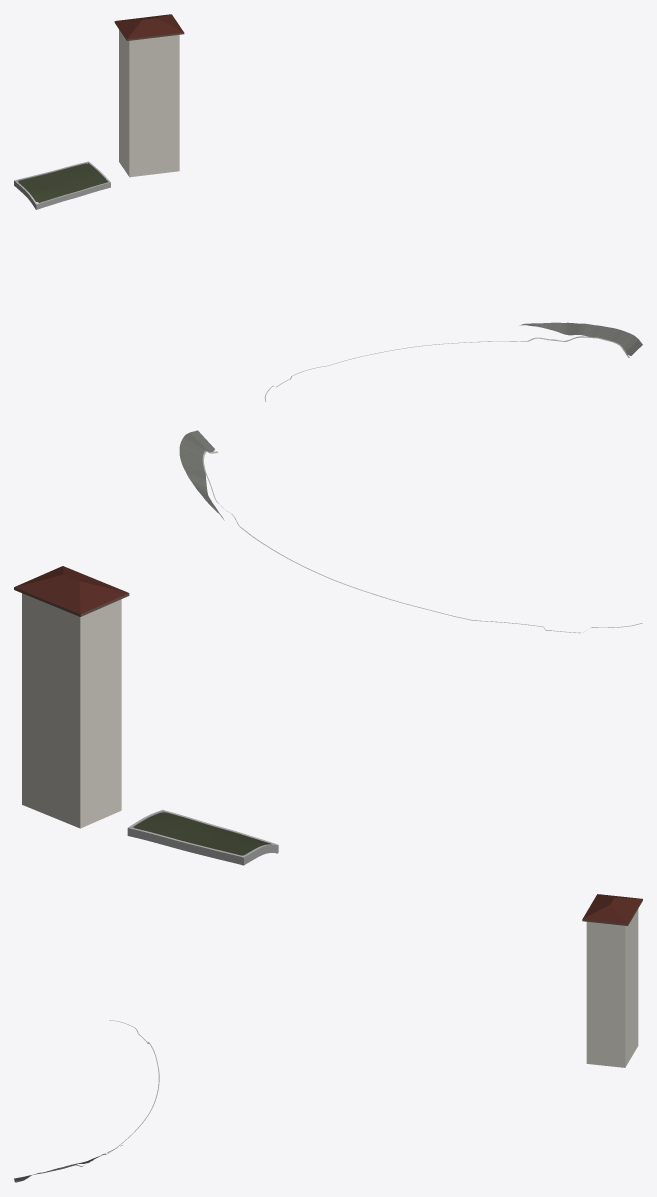
3 views of the same model, one above another, from view 1: azimuth 30°, elevation 25°; view 2: azimuth 150°, elevation 25°; view 3: azimuth 270°, elevation 25° (orthographic). The views are drawn at different scales.
Parts seen in each view (by area): view 1: Red Hawk W core (stair tower, red-tile hip roof (ortho); LiD, ge_police_terrace_bed, SF north cap edge curb (ortho; APPROX 0.15 m), SF north cap asphalt walk (ortho ring ~2.5 m); view 2: Red Hawk W core (stair tower, red-tile hip roof (ortho); LiD, SF north cap edge curb (ortho; APPROX 0.15 m), ge_police_terrace_bed, SF north cap asphalt walk (ortho ring ~2.5 m); view 3: Red Hawk W core (stair tower, red-tile hip roof (ortho); LiD.
Boxes of the visible parts, x1=… form: Red Hawk W core (stair tower, red-tile hip roof (ortho); LiD: x1=114, y1=14, x2=184, y2=177; ge_police_terrace_bed: x1=18, y1=163, x2=106, y2=202; SF north cap edge curb (ortho; APPROX 0.15 m): x1=14, y1=161, x2=629, y2=401; SF north cap asphalt walk (ortho ring ~2.5 m): x1=519, y1=322, x2=642, y2=355; Red Hawk W core (stair tower, red-tile hip roof (ortho); LiD: x1=14, y1=566, x2=129, y2=828; SF north cap edge curb (ortho; APPROX 0.15 m): x1=127, y1=450, x2=642, y2=865; ge_police_terrace_bed: x1=134, y1=812, x2=270, y2=855; SF north cap asphalt walk (ortho ring ~2.5 m): x1=179, y1=430, x2=224, y2=520; Red Hawk W core (stair tower, red-tile hip roof (ortho); LiD: x1=582, y1=894, x2=642, y2=1067.
Size of the model in its own units: 64.53 by 32.98 by 102.
